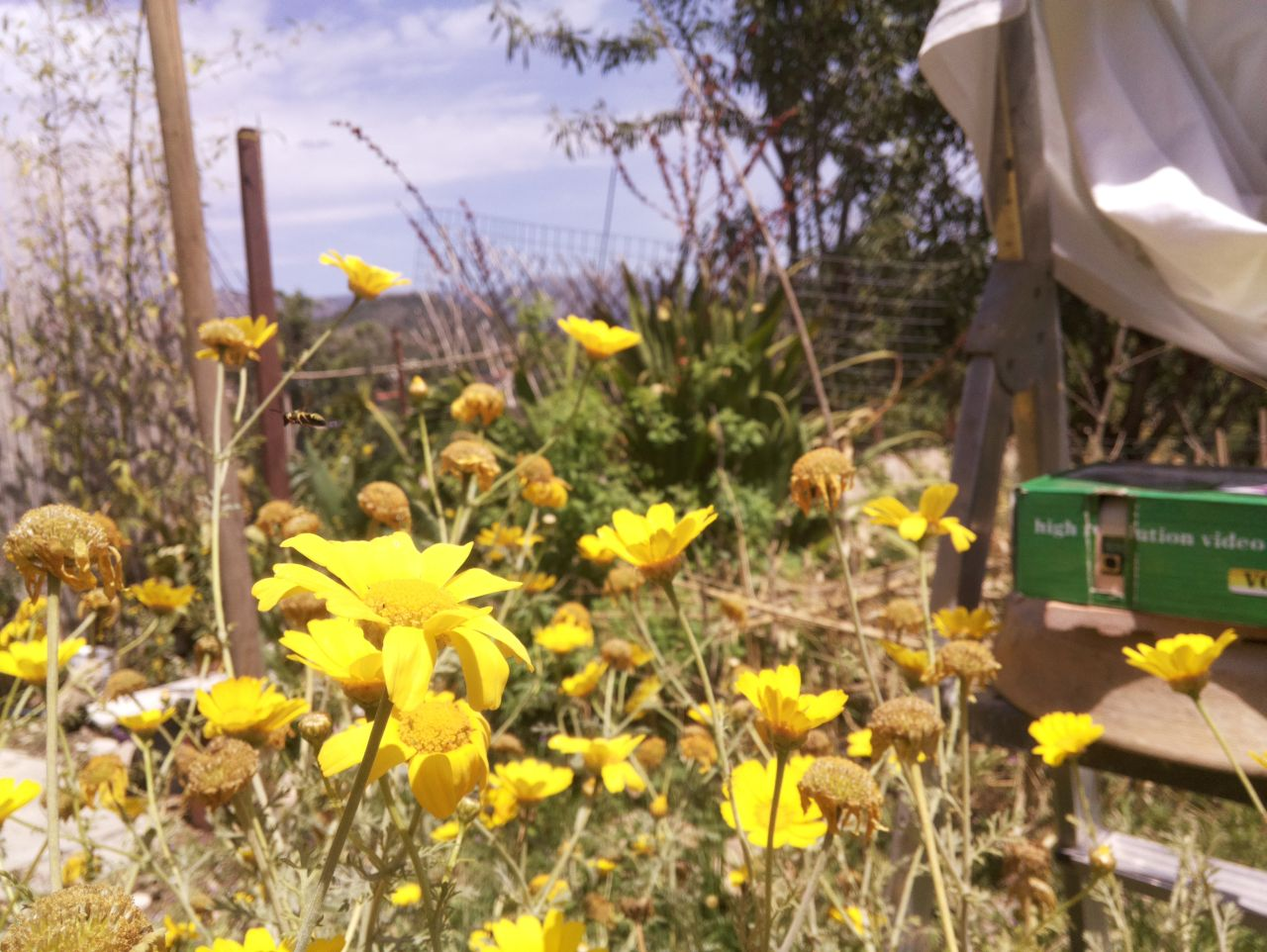Wasp: (263, 405, 348, 434)
